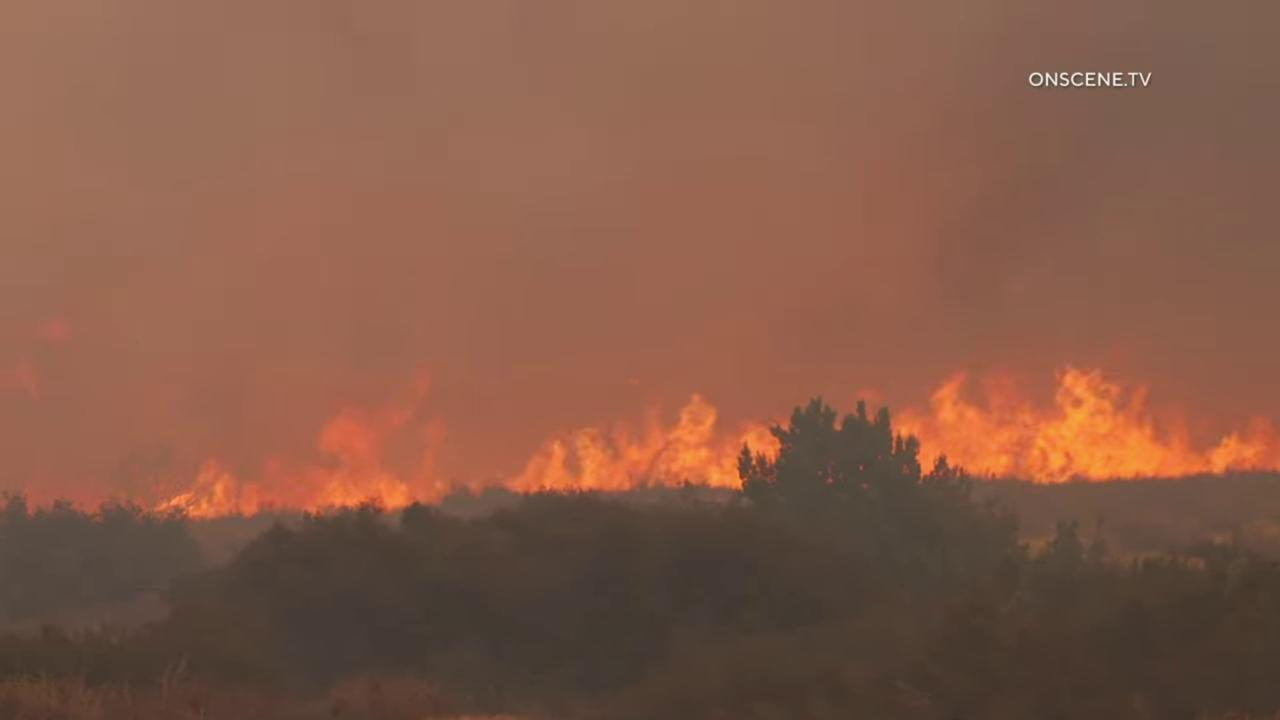fire: (0, 355, 454, 522), (848, 357, 1280, 489), (498, 388, 796, 495)
smoke: (0, 0, 1280, 638)
